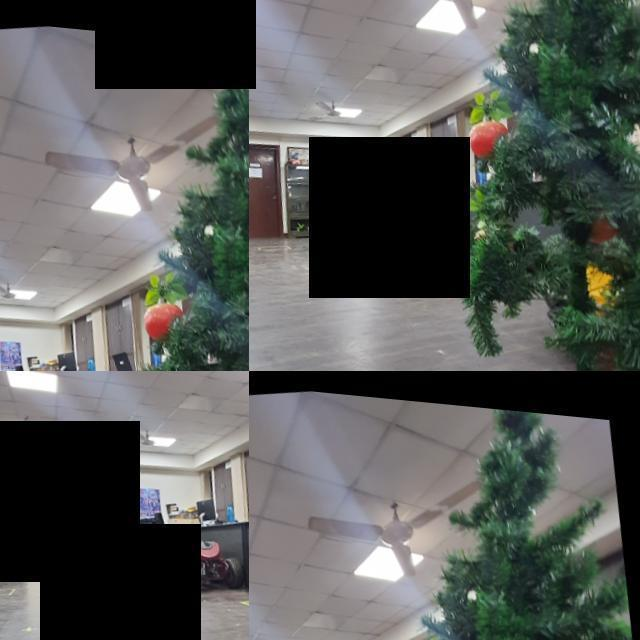tree: (462, 0, 640, 371), (436, 390, 640, 640), (153, 66, 275, 374)
